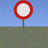sign: (14, 0, 33, 32)
